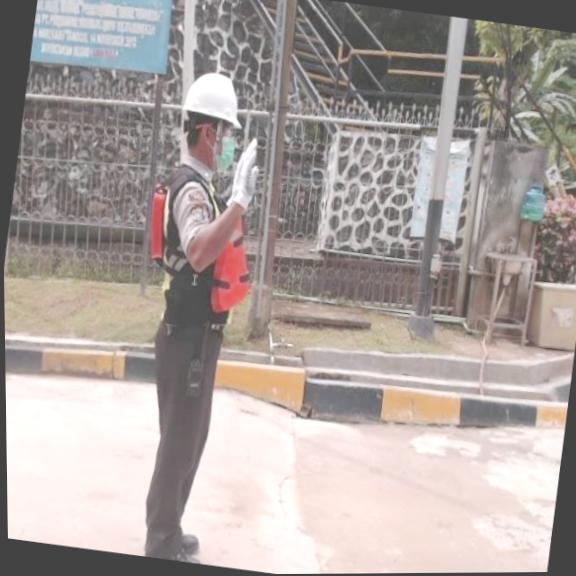safety_vest: (136, 179, 266, 319)
